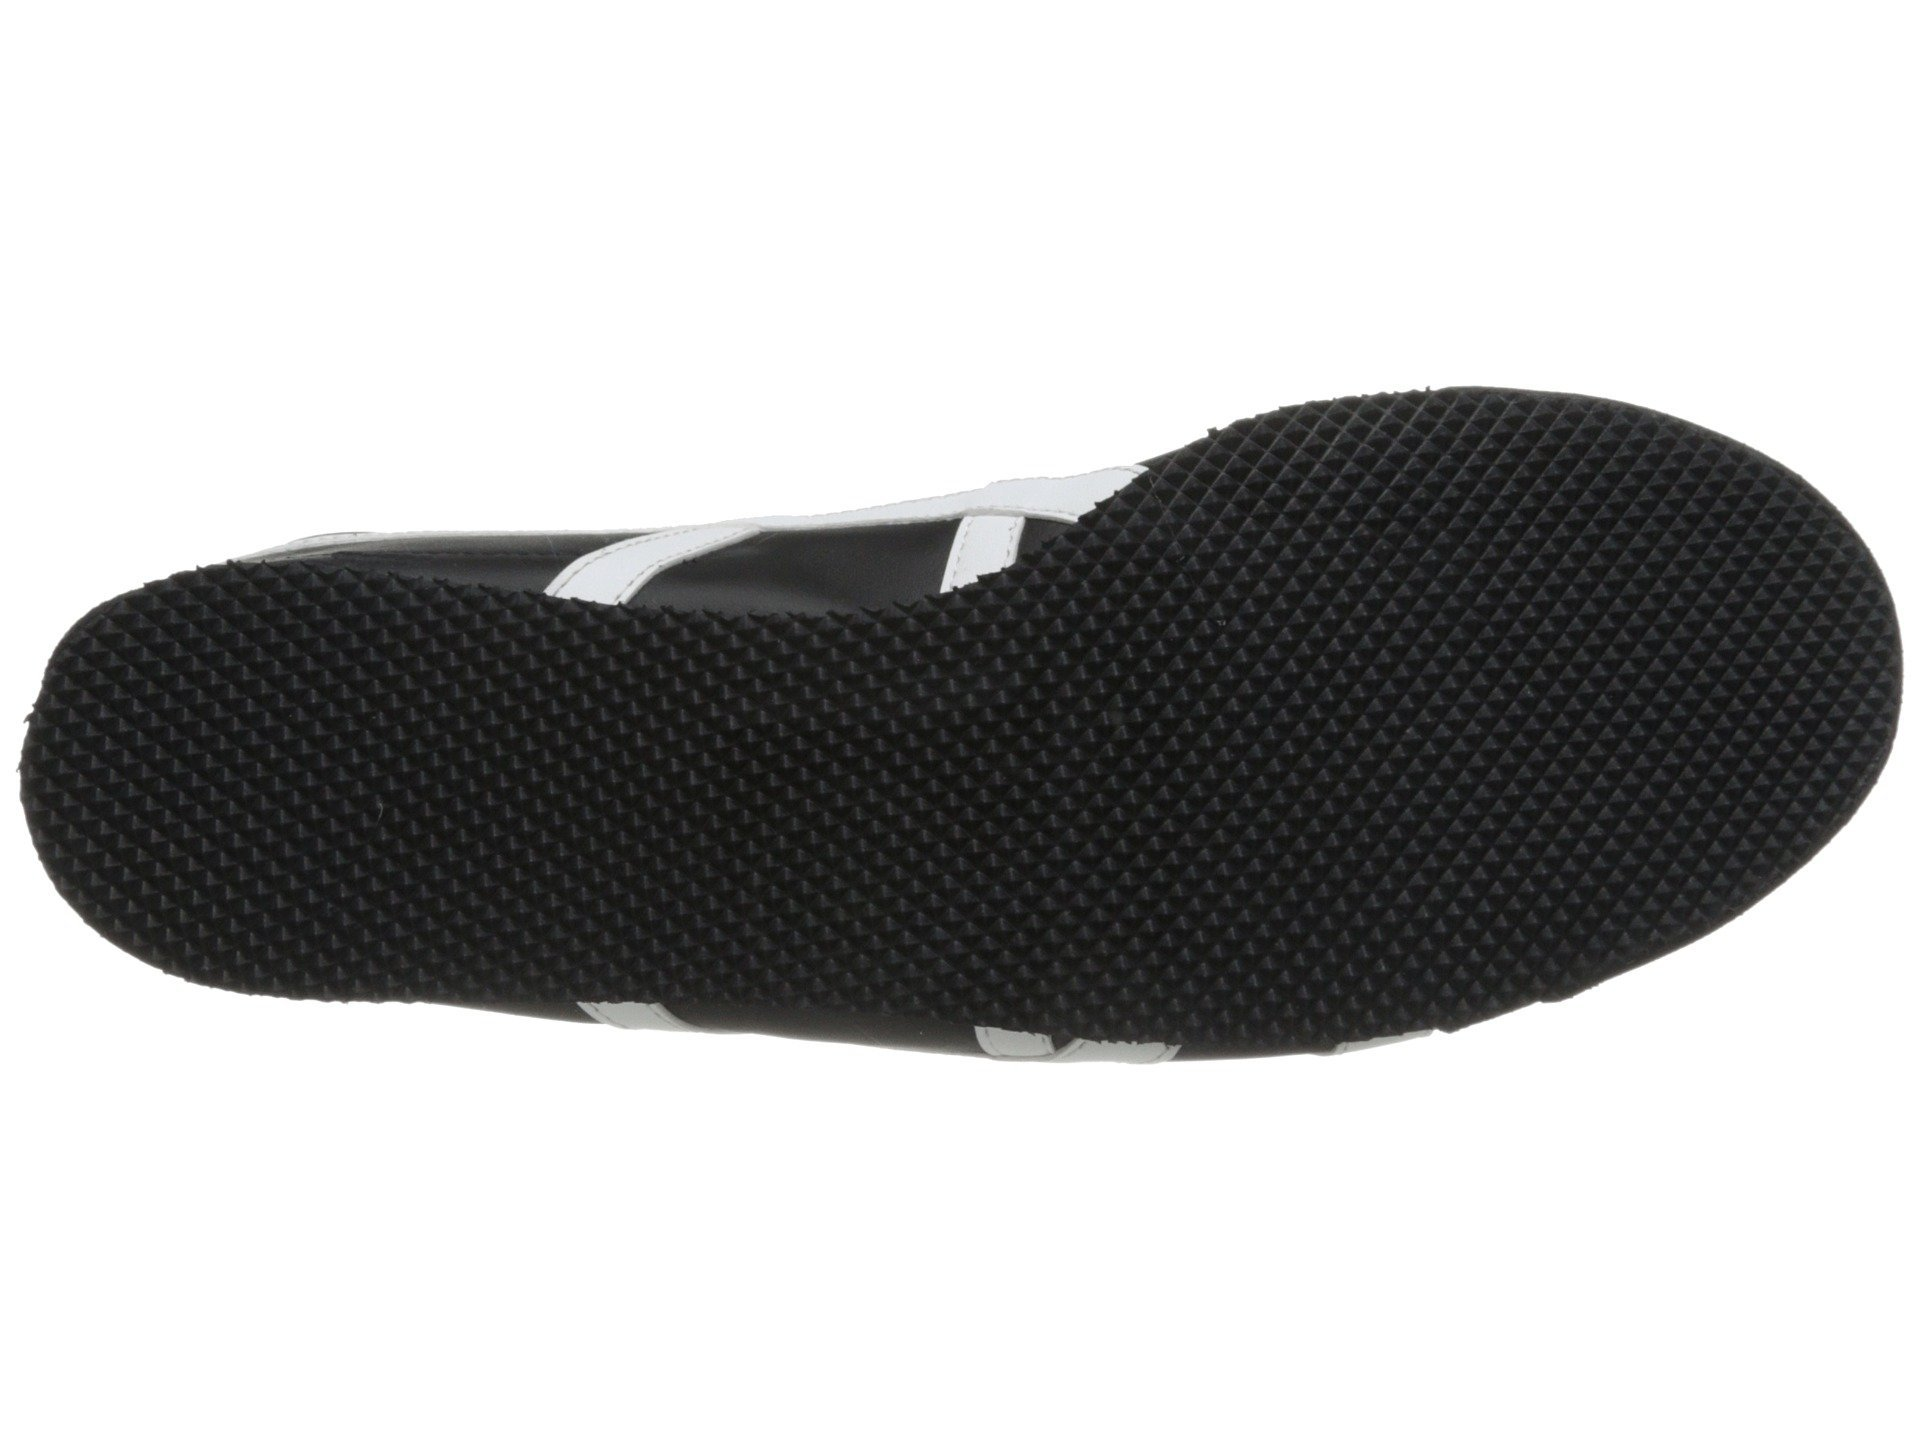quad: (257, 619, 1751, 874), (1185, 493, 1646, 968), (160, 631, 503, 967), (966, 650, 1267, 954), (653, 687, 869, 921), (1336, 523, 1492, 681)
